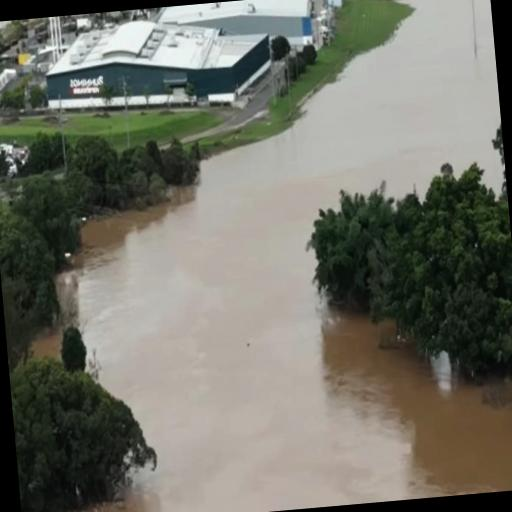flood: (33, 0, 512, 512)
house: (25, 2, 291, 110), (156, 0, 321, 43)
